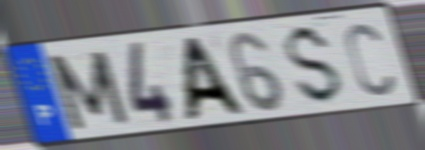4: (125, 39, 177, 128)
6: (227, 29, 288, 115)
A: (180, 33, 250, 123)
C: (343, 20, 397, 100)
M: (43, 47, 134, 134)
S: (284, 21, 346, 108)
